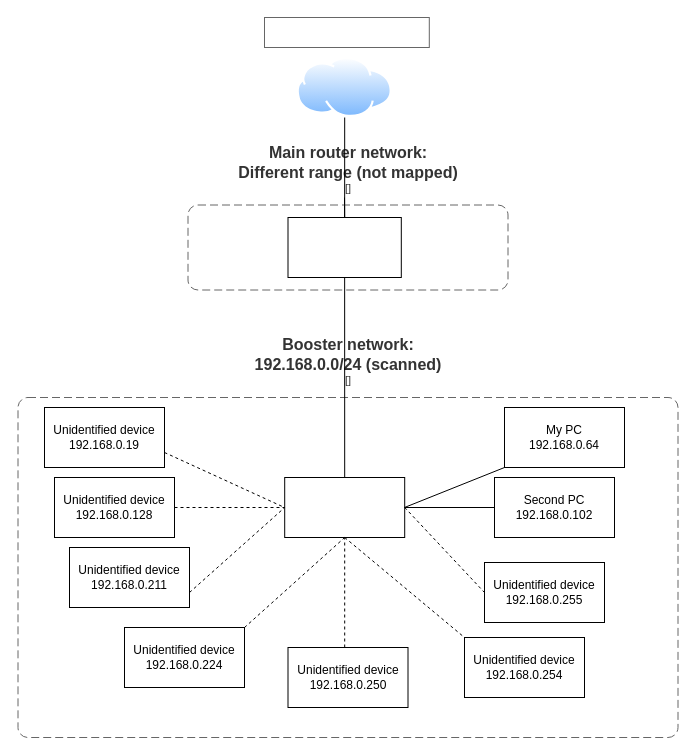
This 695x755 diagram has some shape labels left out. The centre of each missing label's shape, as x and y in pixels:
"Home network map" belongs at point 346,32.
"Main router 10.53.38.133 (Admin page not reachable)" belongs at point 344,247.
"WiFi booster (gateway) 192.168.01" belongs at point 344,507.
